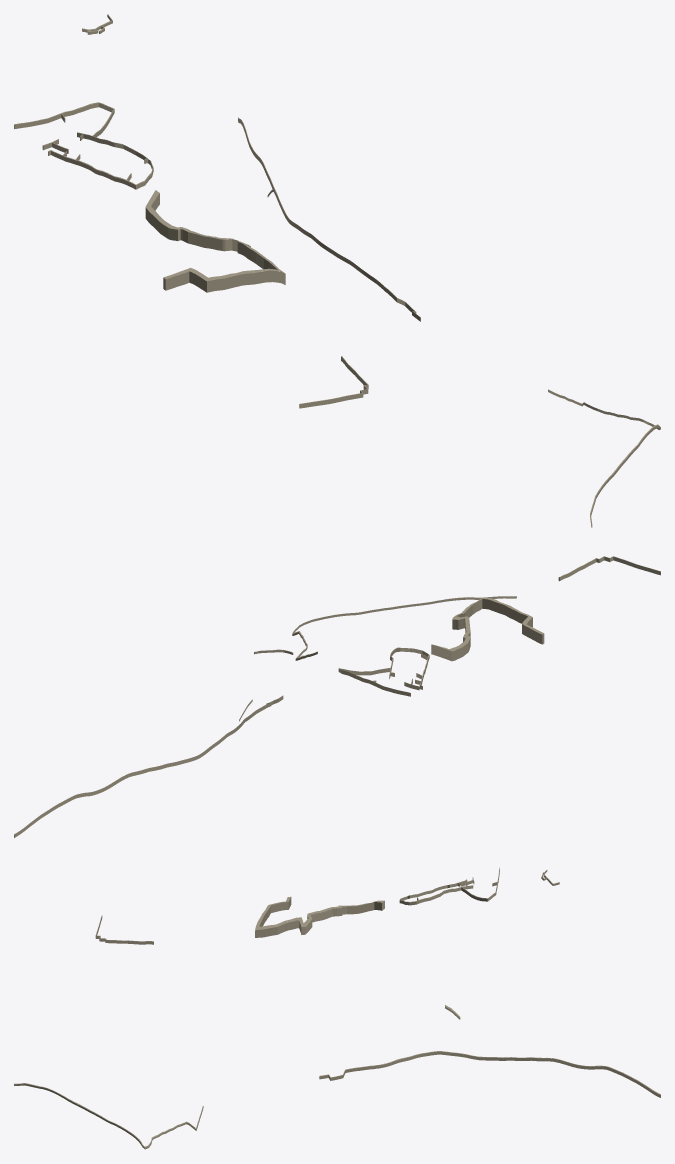
The model's file is walls.glb.
The picture shows the model from 3 angles, top to bottom: view 1: azimuth 30°, elevation 25°; view 2: azimuth 150°, elevation 25°; view 3: azimuth 270°, elevation 25°; orthographic projection. The views are drawn at different scales.
Visible parts, largest first — view 1: T_E1_S3_walls; view 2: T_E1_S3_walls; view 3: T_E1_S3_walls.
Part boxes in pixels (box(x1,y1,x2,y2)): T_E1_S3_walls: box(14, 14, 660, 527); T_E1_S3_walls: box(14, 556, 660, 837); T_E1_S3_walls: box(14, 867, 660, 1149).
Size of the model in its own units: 234 by 149 by 481.
